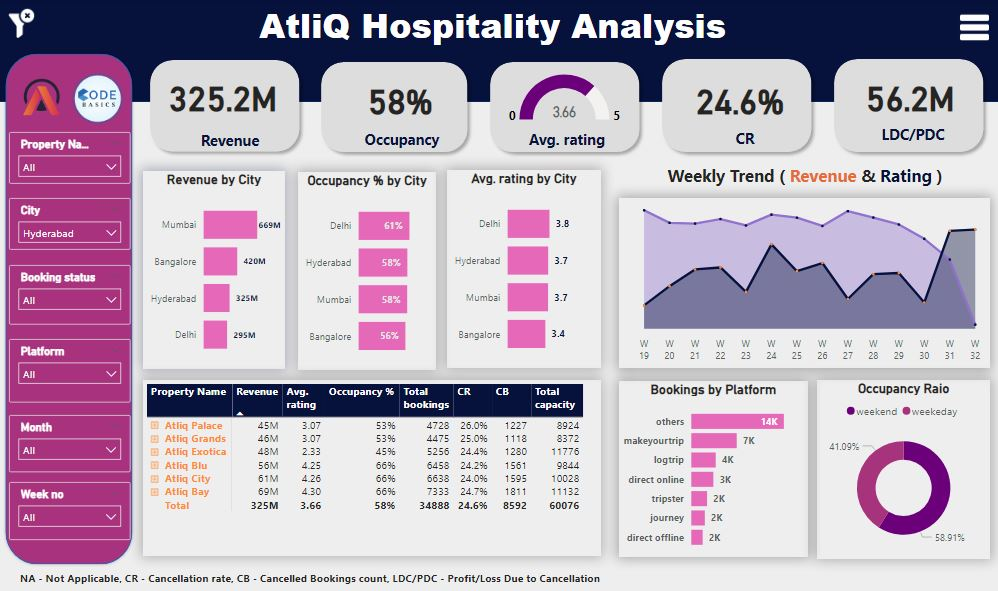

The page's visual inventory and layout, read from the dashboard file:
{"tool":"powerbi","page":{"name":"Overall","canvas":[1280,760],"ordinal":0},"visuals":[{"type":"shape","box":[0,0,1280,134.4],"z":0},{"type":"textbox","box":[0,0,1278.1,75.7],"z":0,"group":"g1"},{"type":"group","id":"g1","title":"visuals","box":[0,0,1278.1,727],"z":1000},{"type":"shape","box":[1058.5,70.1,208.3,136.3],"z":1000,"group":"g1"},{"type":"shape","box":[839.3,70.1,208.3,136.3],"z":2000,"group":"g1"},{"type":"textbox","box":[443.5,163.2,145.1,44.5],"z":2000},{"type":"shape","box":[620.1,73.8,208.3,132.5],"z":3000,"group":"g1"},{"type":"textbox","box":[880.3,161.6,145.1,44.5],"z":3000},{"type":"shape","box":[404.7,73.8,204.5,132.5],"z":4000,"group":"g1"},{"type":"textbox","box":[1094.7,156.6,145.1,44.5],"z":4000},{"type":"textbox","box":[224.2,164.9,145.1,39.6],"z":5000},{"type":"clusteredBarChart","title":"Revenue by City","fields":{"Category":["dim_hotels.city"],"Y":["resource_measures.revenue"]},"box":[185.9,222.1,181,251.7],"z":5000,"group":"g1"},{"type":"card","fields":{"Values":["resource_measures.Occupancy %"]},"box":[454.4,96.6,119.3,64.4],"z":6000,"group":"g1"},{"type":"textbox","box":[654.5,163.2,145.1,44.5],"z":6000},{"type":"textbox","box":[802.3,207.8,456.5,48.5],"z":6500},{"type":"textbox","box":[24.7,727,1063.3,33],"z":6750},{"type":"clusteredBarChart","title":"Occupancy % by City","fields":{"Category":["dim_hotels.city"],"Y":["resource_measures.Occupancy %"]},"box":[384.1,222.6,176.4,252.2],"z":7000,"group":"g1"},{"type":"gauge","fields":{"MaxValue":["resource_measures.max.rating"],"MinValue":["resource_measures.min.rating"],"Y":["resource_measures.avg.rating mod"]},"box":[643,87.4,161.6,84.1],"z":8000,"group":"g1"},{"type":"clusteredBarChart","title":"Avg. rating by City","fields":{"Category":["dim_hotels.city"],"Y":["resource_measures.Avg. rating"]},"box":[573.7,220.9,196.2,252.2],"z":9000,"group":"g1"},{"type":"image","box":[7.6,4.5,47,57.6],"z":10000},{"type":"donutChart","title":"Occupancy Raio","fields":{"Category":["dim_date.day_type"],"Y":["resource_measures.Occupancy %"]},"box":[1045.2,488,220.9,227.5],"z":10000,"group":"g1"},{"type":"areaChart","title":"Weekly Trend (Revenue & Rating)","fields":{"Category":["dim_date.week no"],"Y2":["resource_measures.Avg. rating"],"Y":["resource_measures.revenue"]},"box":[793.2,256.3,473.2,216.9],"z":11000,"group":"g1"},{"type":"clusteredBarChart","title":"Bookings by Platform","fields":{"Category":["fact_bookings.booking_platform"],"Y":["resource_measures.Total bookings"]},"box":[793,489.6,240.7,224.2],"z":12000,"group":"g1"},{"type":"pivotTable","fields":{"Rows":["dim_hotels.property_name","dim_hotels.city"],"Values":["resource_measures.revenue","resource_measures.Avg. rating","resource_measures.Occupancy %","resource_measures.Total bookings","resource_measures.CR","resource_measures.Total cancelled bookings","resource_measures.Total capacity"]},"box":[186.3,488,583.6,224.2],"z":13000,"group":"g1"},{"type":"shape","box":[8.2,69.2,168.2,657.8],"z":14000,"group":"g1"},{"type":"slicer","fields":{"Values":["dim_date.week no"]},"box":[14.8,618.2,155,74.2],"z":15000,"group":"g1"},{"type":"slicer","fields":{"Values":["dim_date.mmm yy.Variation.Date Hierarchy.Month"]},"box":[14.8,532.5,155,72.5],"z":16000,"group":"g1"},{"type":"slicer","fields":{"Values":["fact_bookings.booking_platform"]},"box":[15.1,435.8,155.3,81.4],"z":17000,"group":"g1"},{"type":"slicer","fields":{"Values":["fact_bookings.booking_status"]},"box":[15.1,341.5,155.3,75.7],"z":18000,"group":"g1"},{"type":"slicer","fields":{"Values":["dim_hotels.city"]},"box":[15.1,256.7,155.3,66.3],"z":19000,"group":"g1"},{"type":"slicer","fields":{"Values":["dim_hotels.property_name"]},"box":[15.1,171.9,155.3,66.3],"z":20000,"group":"g1"},{"type":"card","fields":{"Values":["resource_measures.LDC"]},"box":[1088.6,87.4,150,74.2],"z":21000,"group":"g1"},{"type":"card","fields":{"Values":["resource_measures.CR"]},"box":[869.1,77.6,155.3,102.2],"z":22000,"group":"g1"},{"type":"shape","box":[185.6,72,208.3,134.4],"z":23000,"group":"g1"},{"type":"card","fields":{"Values":["resource_measures.revenue"]},"box":[206.7,87.4,163.2,74.2],"z":24000,"group":"g1"},{"type":"image","title":"atliq","box":[15.1,90.4,77.6,73.8],"z":25000,"group":"g1"},{"type":"image","title":"codebasics","box":[85.2,90.4,85.2,77.6],"z":26000,"group":"g1"},{"type":"image","title":"three dot menu","box":[1213.7,15.1,64.4,47.3],"z":27000,"group":"g1"}]}

Visuals, with their boxes in screenshot pixels (x1, y1, x2, y2), scaled from the page's 1280x760 canvas onto the 998x591 screenshot:
shape: 0,0,997,105
textbox: 0,0,997,59
"visuals" group: 0,0,997,565
shape: 825,55,988,161
shape: 654,55,817,161
textbox: 346,127,459,162
shape: 483,57,646,160
textbox: 686,126,799,160
shape: 316,57,475,160
textbox: 854,122,967,156
textbox: 175,128,288,159
"Revenue by City" clusteredBarChart: 145,173,286,368
card - resource_measures.Occupancy %: 354,75,447,125
textbox: 510,127,623,162
textbox: 626,162,981,199
textbox: 19,565,848,590
"Occupancy % by City" clusteredBarChart: 299,173,437,369
gauge - resource_measures.max.rating x resource_measures.min.rating: 501,68,627,133
"Avg. rating by City" clusteredBarChart: 447,172,600,368
image: 6,3,43,48
"Occupancy Raio" donutChart: 815,379,987,556
"Weekly Trend (Revenue & Rating)" areaChart: 618,199,987,368
"Bookings by Platform" clusteredBarChart: 618,381,806,555
pivotTable - dim_hotels.property_name x dim_hotels.city: 145,379,600,554
shape: 6,54,138,565
slicer - dim_date.week no: 12,481,132,538
slicer - dim_date.mmm yy.Variation.Date Hierarchy.Month: 12,414,132,470
slicer - fact_bookings.booking_platform: 12,339,133,402
slicer - fact_bookings.booking_status: 12,266,133,324
slicer - dim_hotels.city: 12,200,133,251
slicer - dim_hotels.property_name: 12,134,133,185
card - resource_measures.LDC: 849,68,966,126
card - resource_measures.CR: 678,60,799,140
shape: 145,56,307,161
card - resource_measures.revenue: 161,68,288,126
"atliq" image: 12,70,72,128
"codebasics" image: 66,70,133,131
"three dot menu" image: 946,12,997,49
